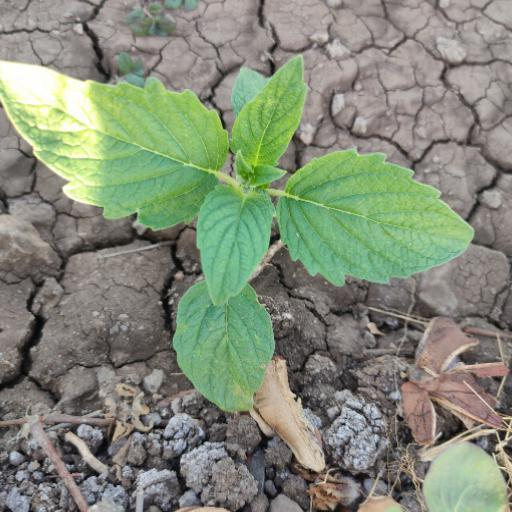crop: (3, 50, 484, 400)
